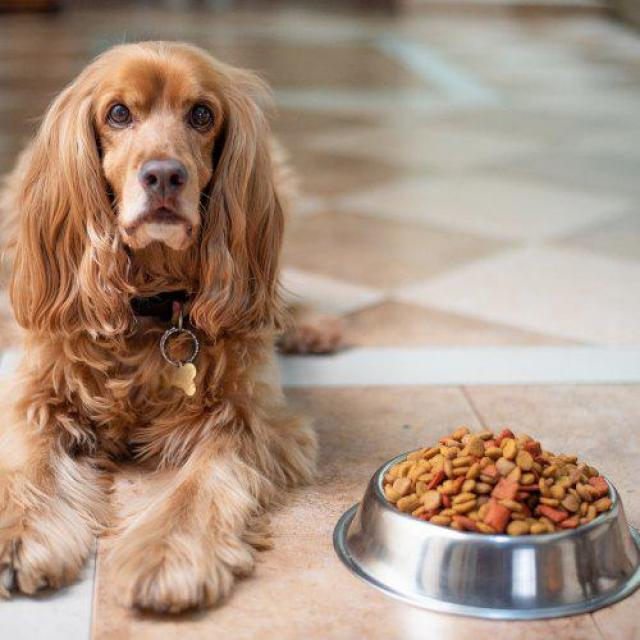dog: (0, 19, 313, 629)
